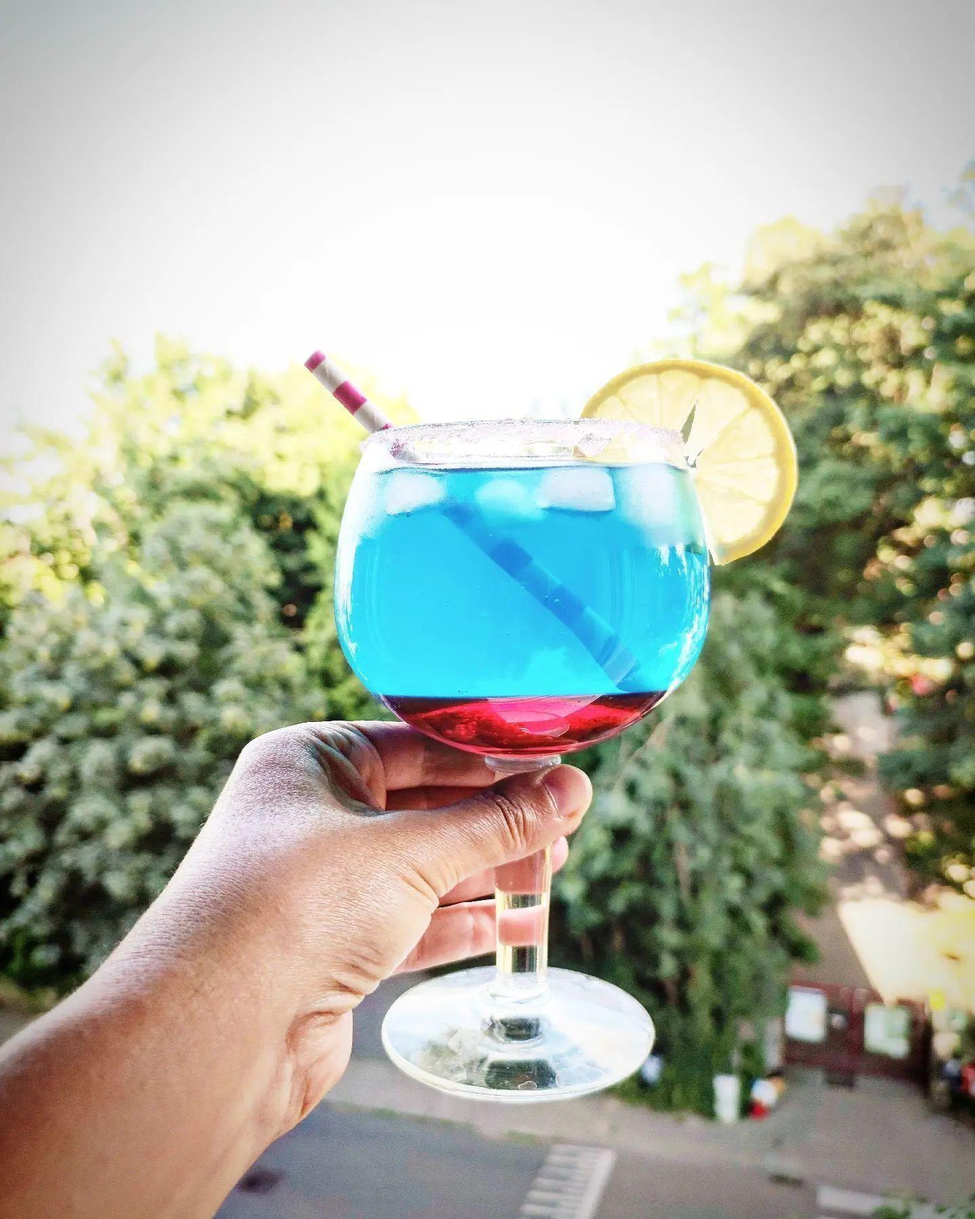glass-wine: (328, 402, 722, 1105)
